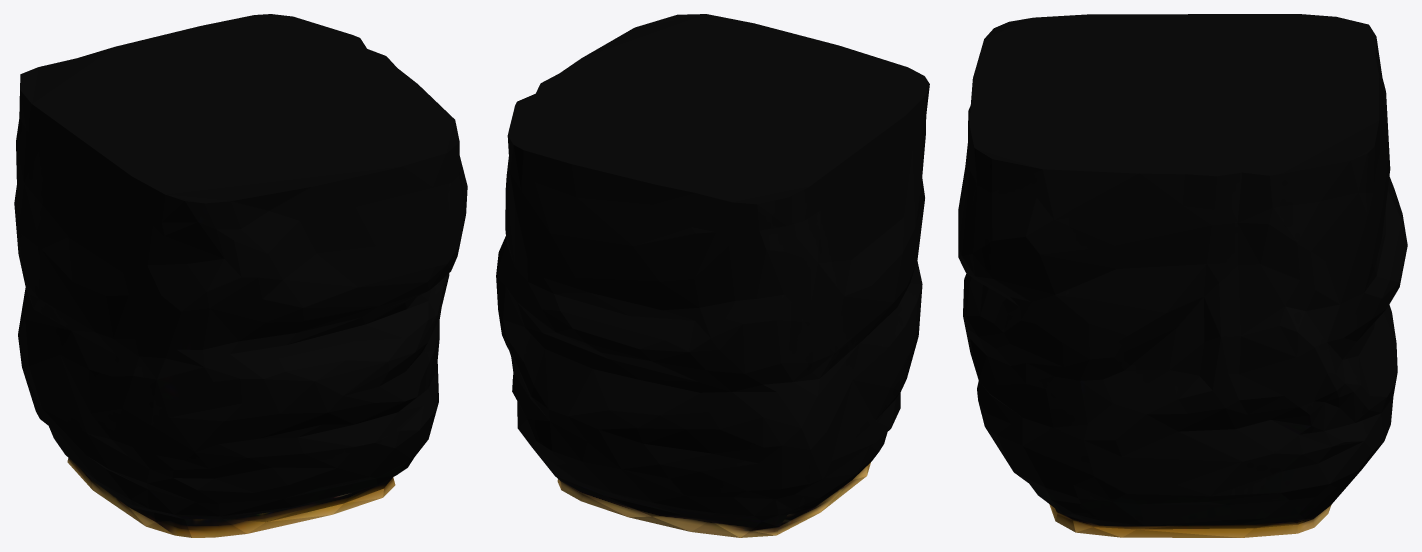
The model's file is LeftLowerArm.glb.
The picture shows the model from 3 angles, left to right: view 1: azimuth 30°, elevation 25°; view 2: azimuth 150°, elevation 25°; view 3: azimuth 270°, elevation 25°; orthographic projection. The views are drawn at different scales.
Parts seen in each view (by area): view 1: LeftLowerArm; view 2: LeftLowerArm; view 3: LeftLowerArm.
Boxes of the visible parts, left/top/right/bottom form: LeftLowerArm: left=14, top=14, right=467, bottom=537; LeftLowerArm: left=496, top=14, right=929, bottom=537; LeftLowerArm: left=958, top=14, right=1407, bottom=537.
Bounding box in the file's own units: 1.16 × 1.21 × 1.27.
1 material, 1 textured.
